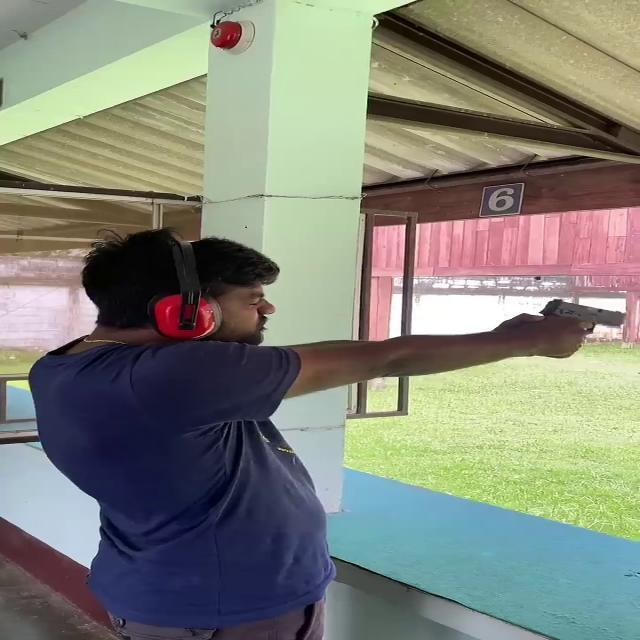Handgun: (527, 290, 629, 365)
